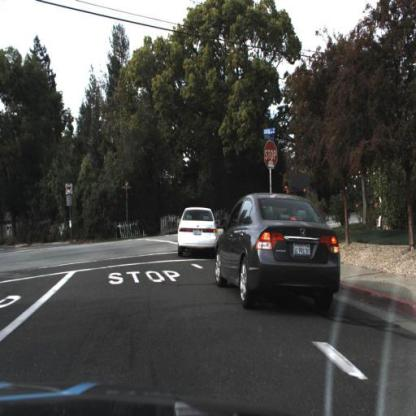car: (212, 183, 347, 320), (174, 204, 218, 261)
